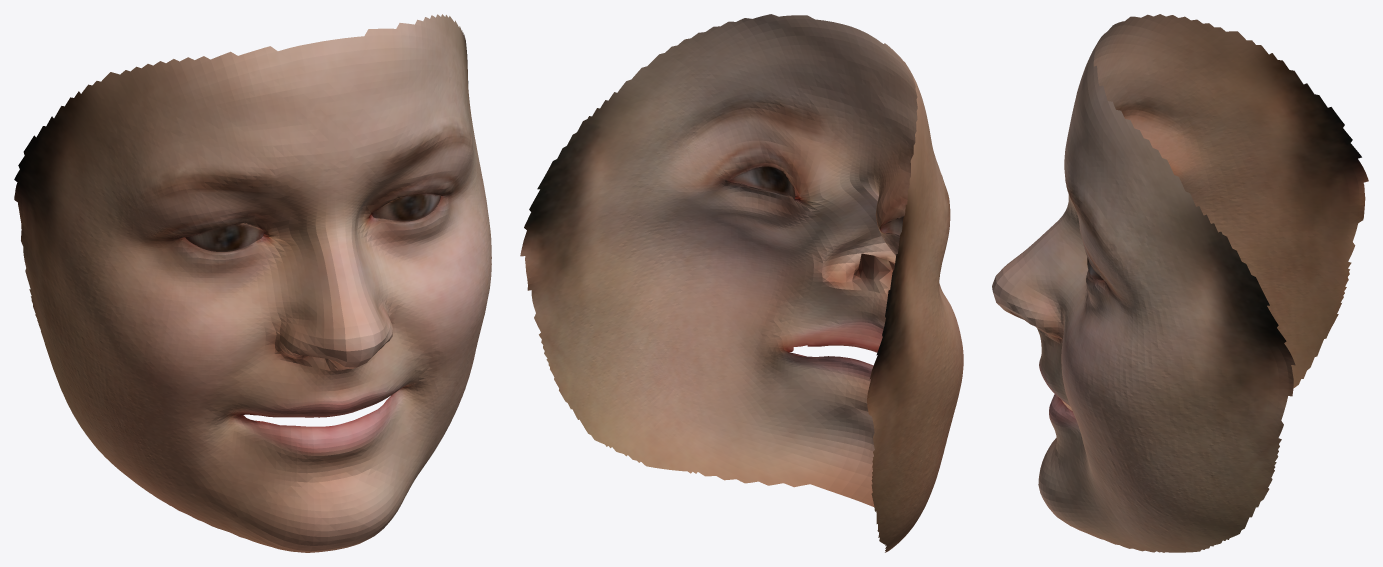
The model's file is generated.photos_v3_0001433_mesh.obj.
3 views of the same model, side by side, from view 1: azimuth 30°, elevation 25°; view 2: azimuth 150°, elevation 25°; view 3: azimuth 270°, elevation 25° (orthographic). The views are drawn at different scales.
Bounding box in the file's own units: 1.39 × 1.63 × 1.18.
